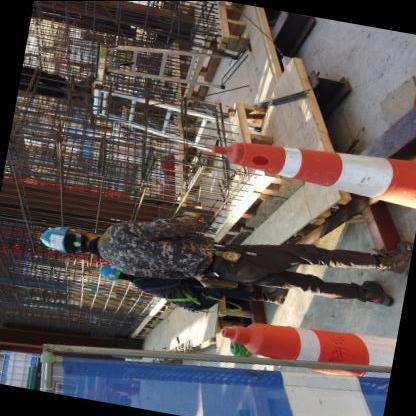Helmet: (28, 217, 77, 260)
safety-shoe: (351, 275, 400, 311), (374, 234, 413, 276)
